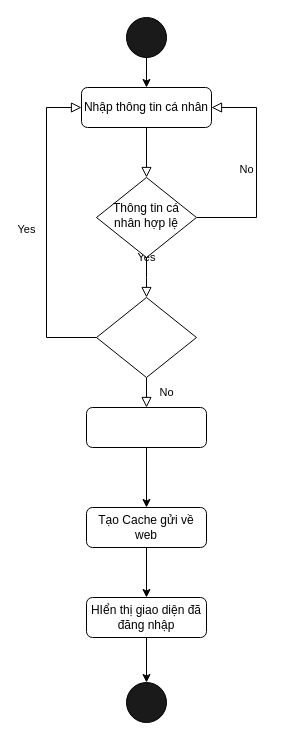
Image size: 284x740. Some labels were removed from this diagram. The shapes that lost their labels are listed below. From the top down, each one's centre as x and y in pixels, then its label:
the point at 146,337: Tài khoản đã tồn tại
the point at 146,427: Lưu thông tin vào cơ sở dữ liệu
